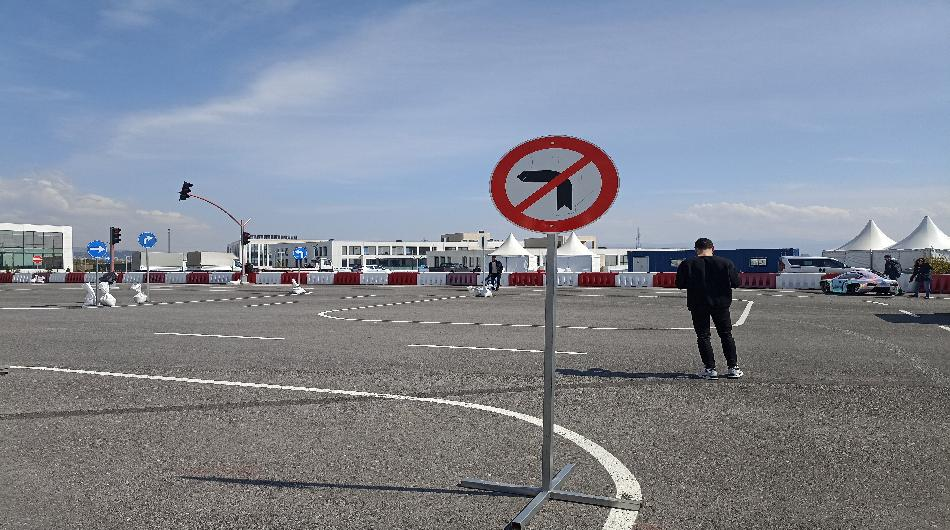sola_donulmez: (492, 137, 619, 234)
